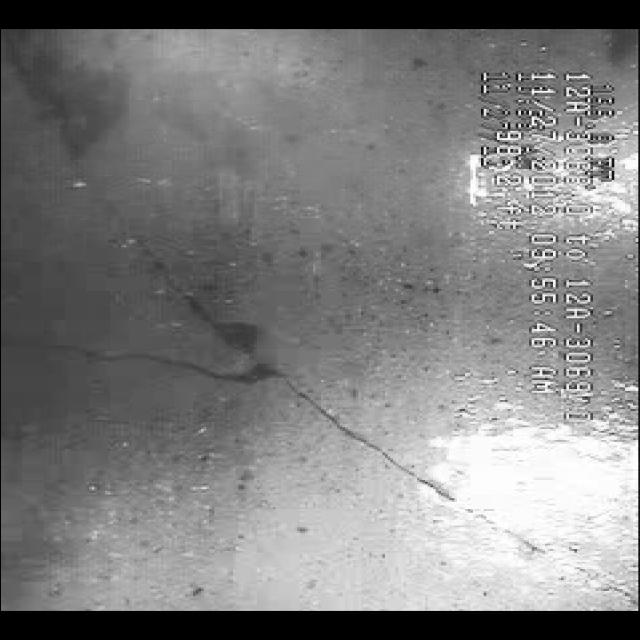Crack: (15, 149, 388, 461)
